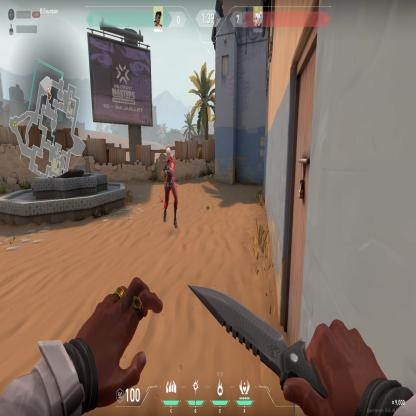enemy: (161, 145, 179, 230)
